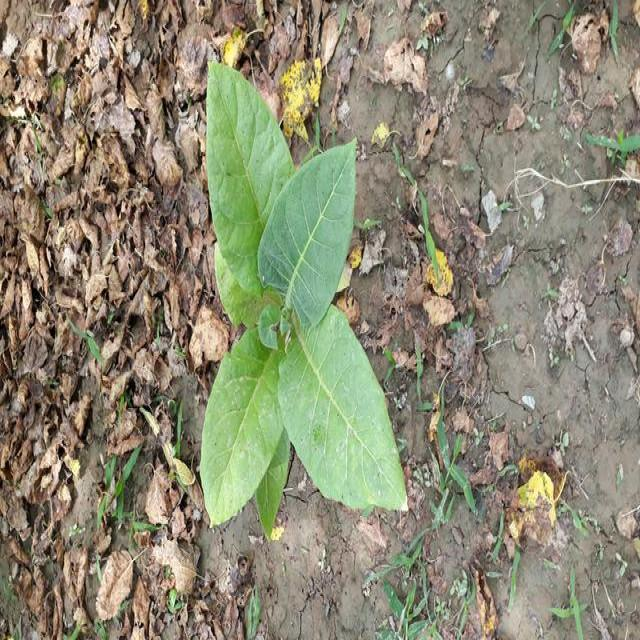crop: (190, 73, 414, 546)
